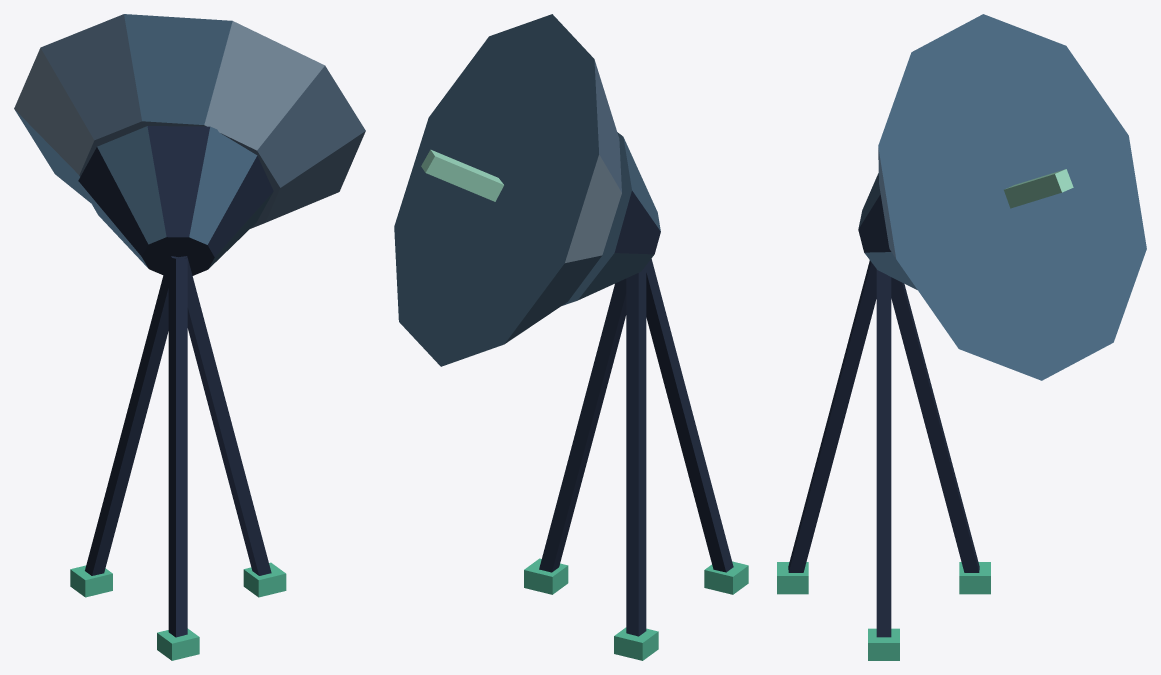
The model's file is array-dish.glb.
3 views of the same model, side by side, from view 1: azimuth 30°, elevation 25°; view 2: azimuth 150°, elevation 25°; view 3: azimuth 270°, elevation 25° (orthographic). The views are drawn at different scales.
Visible parts, largest first — view 1: array-dish; view 2: array-dish; view 3: array-dish.
Part boxes in pixels (left/top/right/bottom): array-dish: left=14, top=14, right=365, bottom=660; array-dish: left=394, top=14, right=748, bottom=660; array-dish: left=777, top=14, right=1146, bottom=660.
Size of the model in its own units: 1.85 by 3.91 by 2.22.
